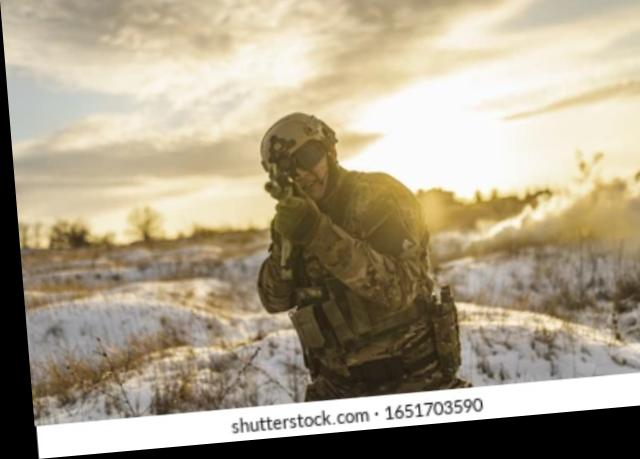other: (233, 108, 402, 401)
